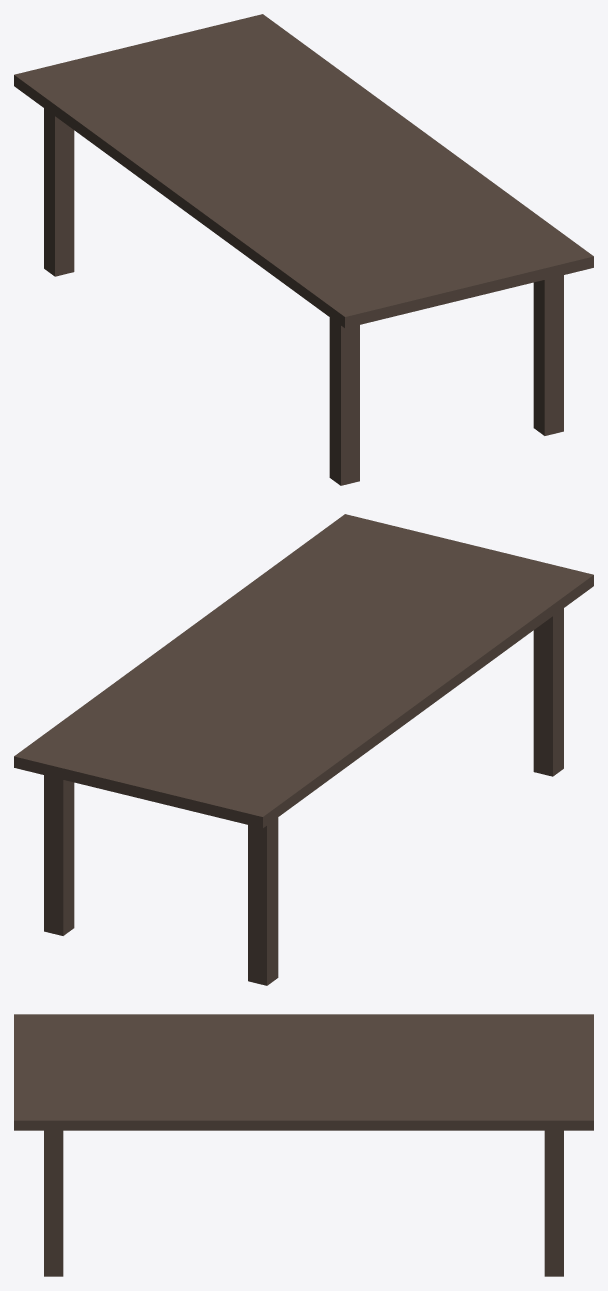
The model's file is GrandeTable_28.fbx.
The picture shows the model from 3 angles, top to bottom: view 1: azimuth 30°, elevation 25°; view 2: azimuth 150°, elevation 25°; view 3: azimuth 270°, elevation 25°; orthographic projection. The views are drawn at different scales.
Visible parts, largest first — view 1: pCube79, pCube77, pCube75, pCube78; view 2: pCube79, pCube75, pCube77, pCube76; view 3: pCube79, pCube78, pCube76.
Boxes of the visible parts, bbox=[...] form: pCube79: bbox=[14, 14, 593, 328]; pCube77: bbox=[329, 317, 359, 485]; pCube75: bbox=[44, 108, 74, 276]; pCube78: bbox=[533, 275, 563, 435]; pCube79: bbox=[14, 514, 593, 828]; pCube75: bbox=[248, 817, 278, 985]; pCube77: bbox=[533, 608, 563, 776]; pCube76: bbox=[44, 775, 74, 935]; pCube79: bbox=[14, 1014, 593, 1130]; pCube78: bbox=[44, 1130, 63, 1276]; pCube76: bbox=[544, 1130, 563, 1276].
Bounding box in the file's own units: 53.95 × 38.21 × 124.
